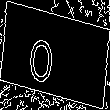O_N: (41, 26, 69, 84)
